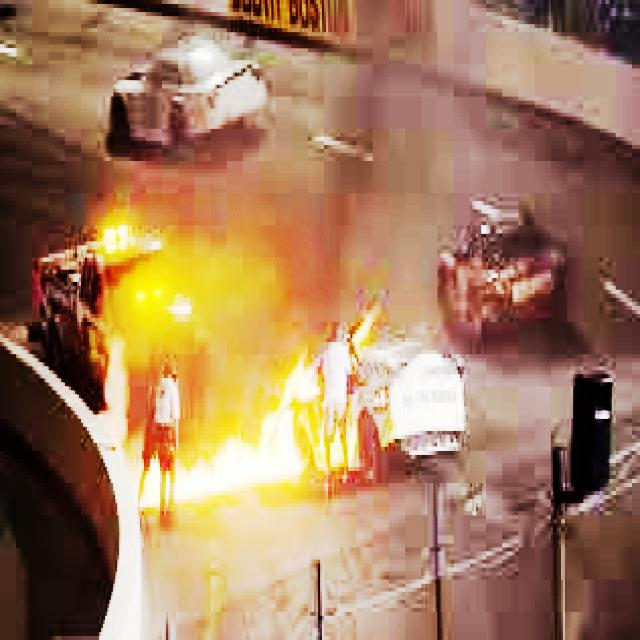api: (135, 319, 370, 512)
